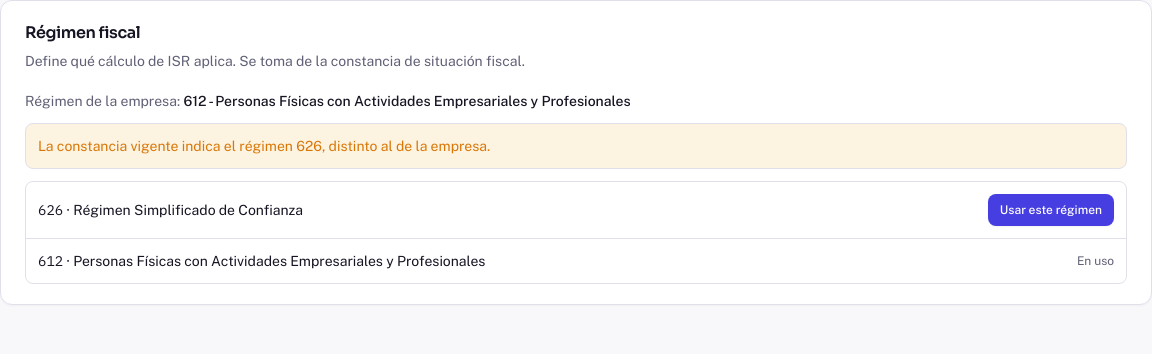
Test case: RegimenEmpresaCard › sugiere el régimen de la constancia cuando difiere y lo guarda
Check: the text "La constancia vigente indica el régimen 626, distinto al de la empresa." is shown, box [25,123,1127,169]
Check: the text "En uso" is shown, box [1077,253,1114,269]
Step 1. Click the button with aria-label "Usar el régimen 626" → (1051, 210), box [988,194,1114,226]
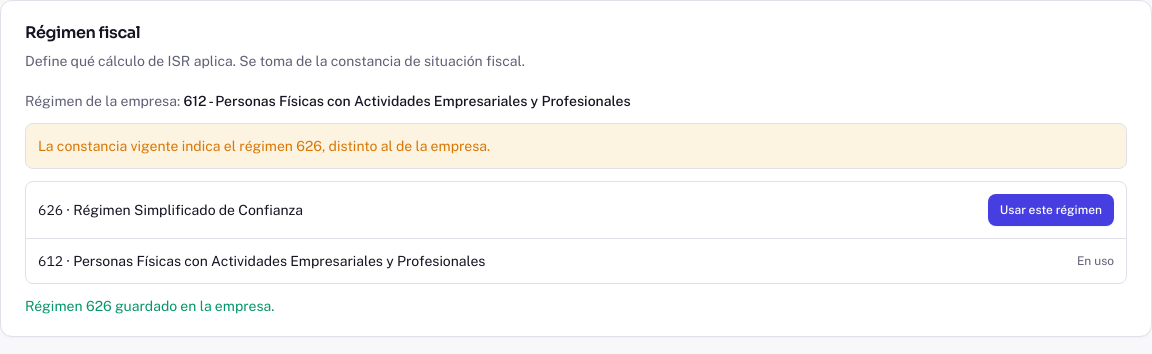
Check: the text "Régimen 626 guardado en la empresa." is shown, box [25,298,274,314]
